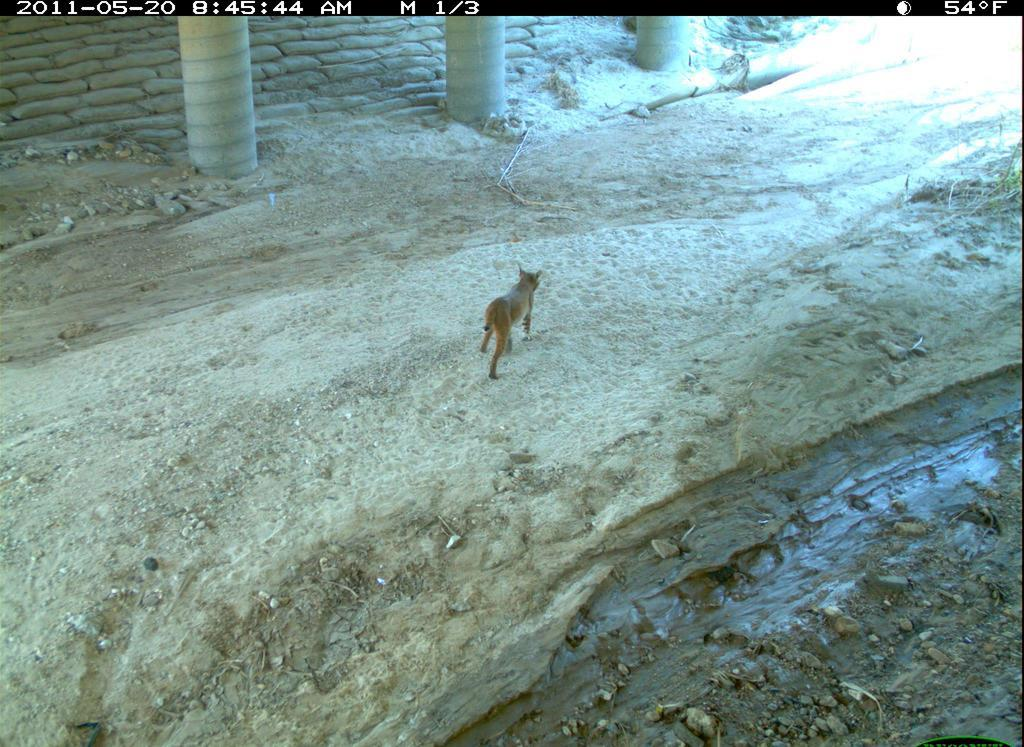bobcat: (470, 258, 547, 383)
